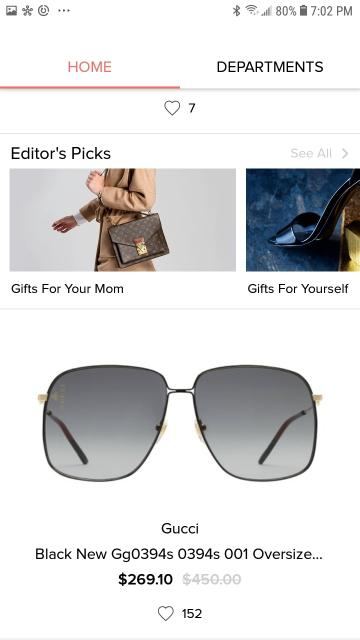Icon: (164, 100, 180, 116), (158, 606, 174, 620), (342, 149, 348, 159)
Image: (38, 364, 322, 482), (9, 168, 235, 272), (245, 168, 359, 272)
Multi_Tab: (0, 50, 360, 88)
Text: (35, 548, 321, 562), (118, 572, 242, 586), (12, 147, 110, 159), (11, 283, 123, 293), (217, 62, 323, 72), (248, 284, 348, 292), (68, 62, 112, 72), (162, 522, 198, 534), (291, 148, 331, 158), (181, 608, 201, 618), (188, 104, 195, 112)
UpperTaskBar: (0, 0, 359, 16)
